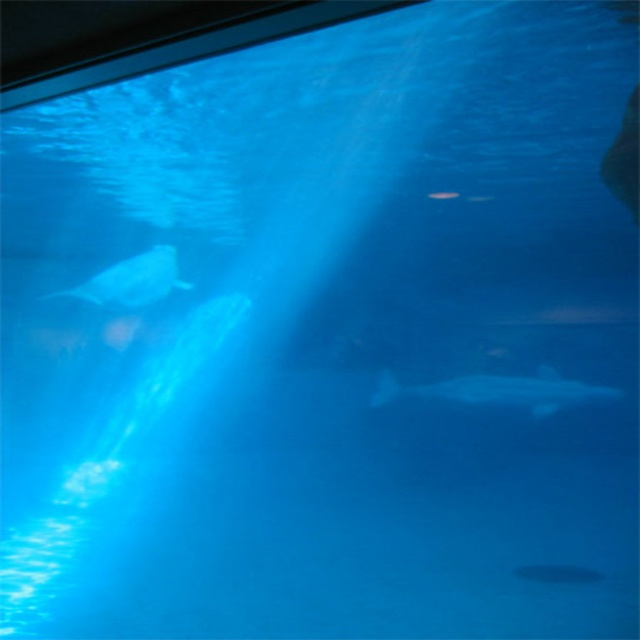Shark: (373, 363, 622, 419)
